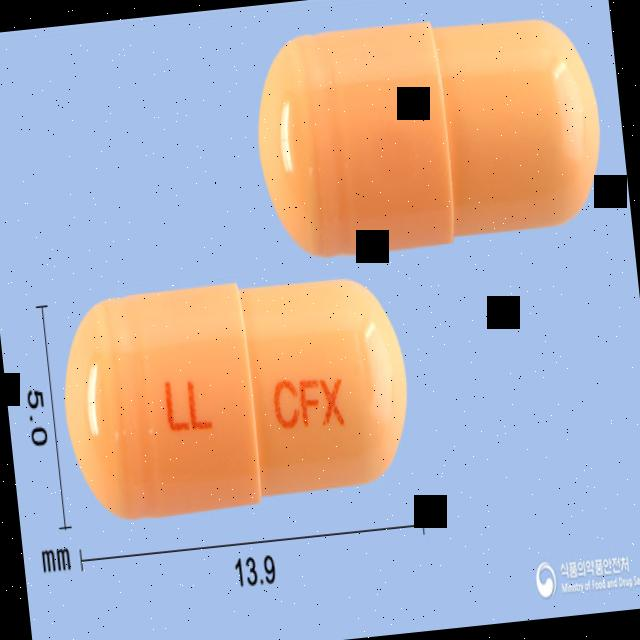Cefaxamin Cap: (49, 259, 423, 529)
